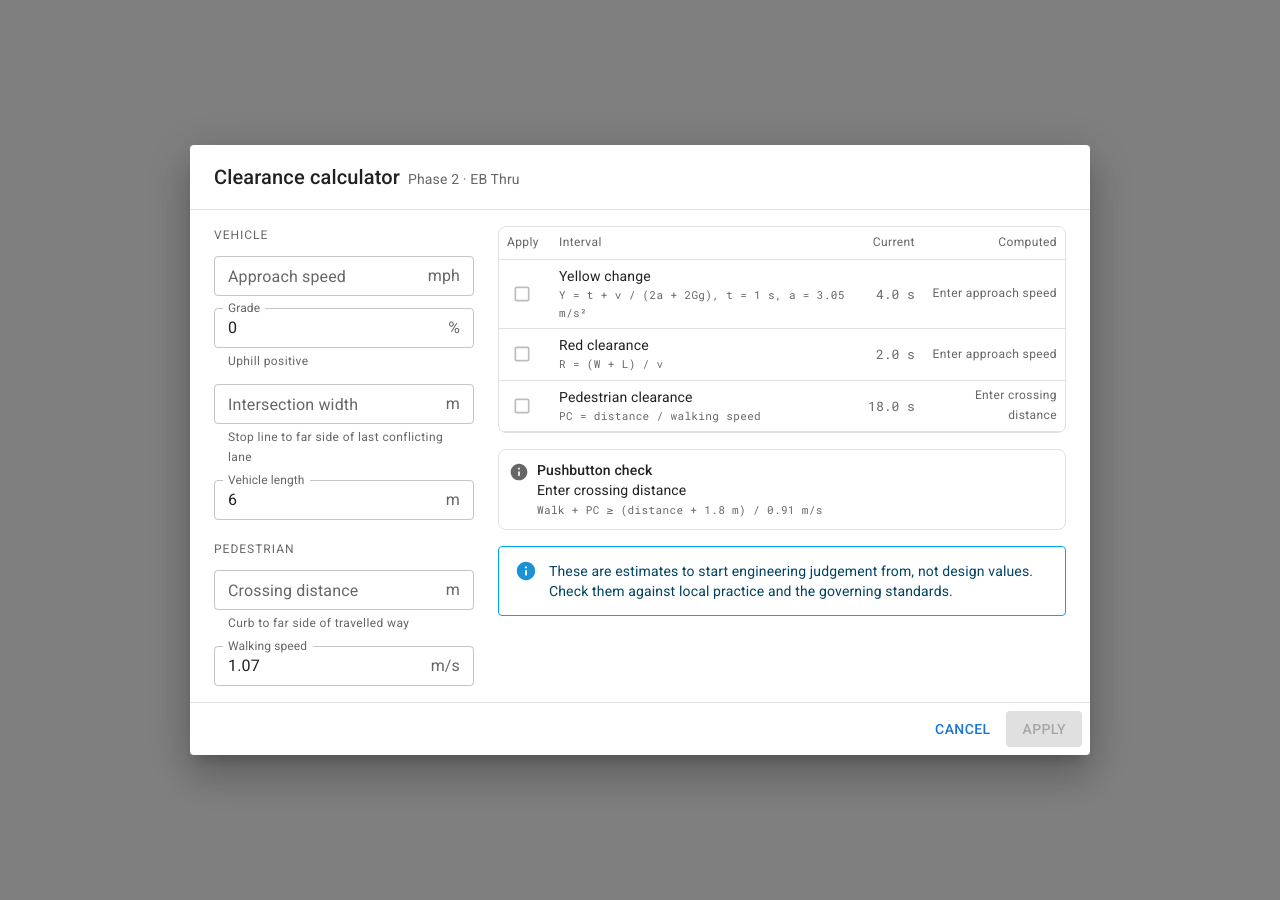
Test case: ClearanceDialog › uses metric defaults and converts a mismatched speed unit
This screenshot has width=1280, height=900.
Type "35" into the field labelled "Approach speed" at (317, 276), box [214,256,420,296]
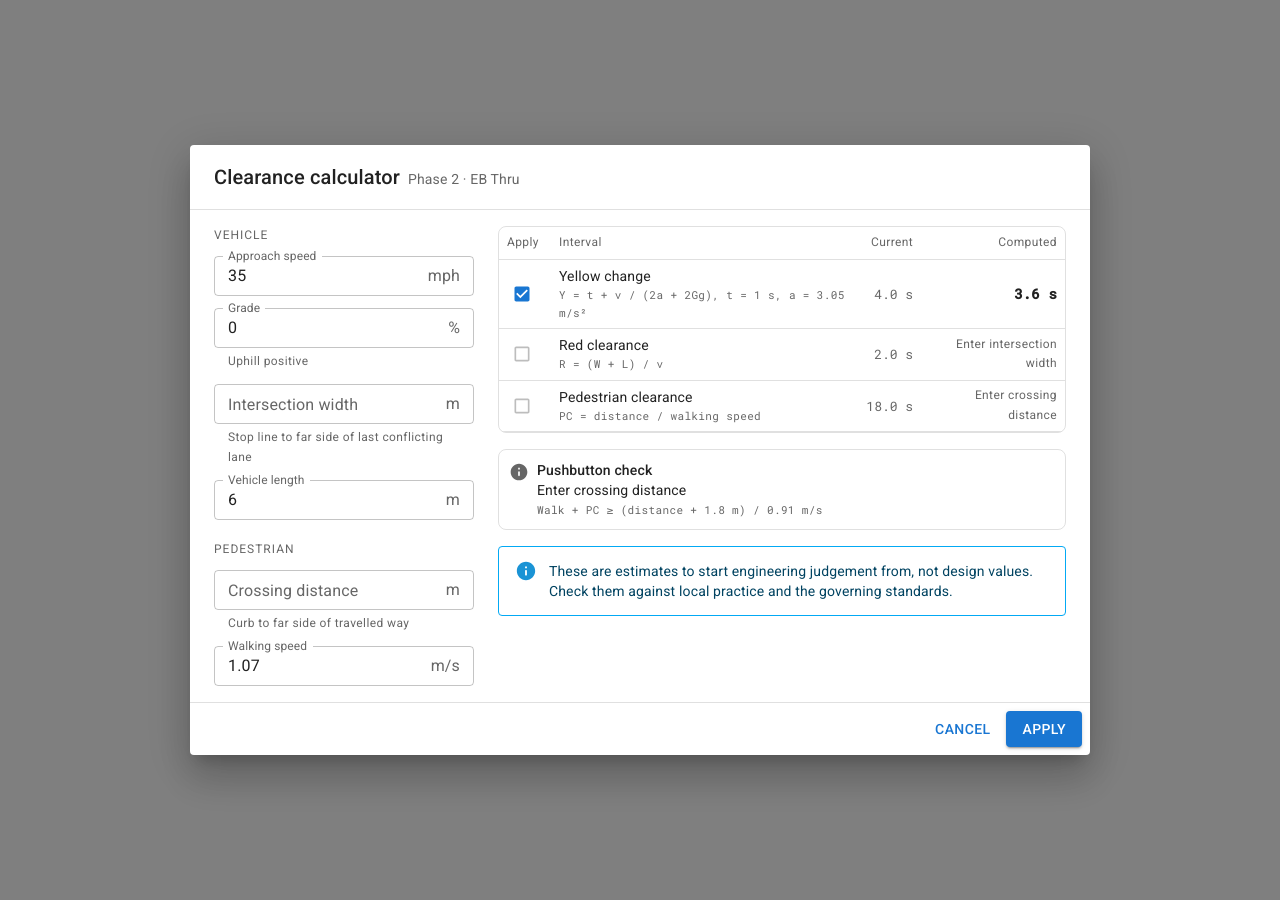
Check: the text "3.6 s" is shown, box [1014,284,1057,303]
